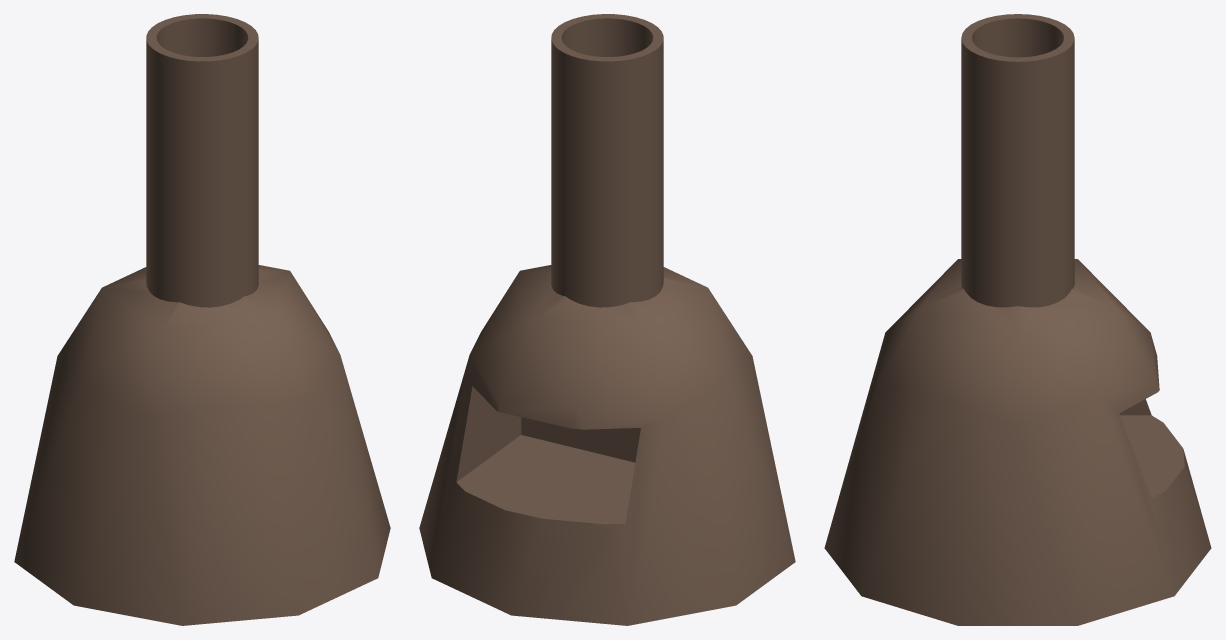
Rendered from furnace.glb.
3 views of the same model, side by side, from view 1: azimuth 30°, elevation 25°; view 2: azimuth 150°, elevation 25°; view 3: azimuth 270°, elevation 25° (orthographic).
Parts seen in each view (by area): view 1: Cylinder; view 2: Cylinder; view 3: Cylinder.
Part boxes in pixels (left/top/right/bottom): Cylinder: left=14, top=14, right=390, bottom=625; Cylinder: left=419, top=14, right=795, bottom=625; Cylinder: left=824, top=14, right=1211, bottom=625.
Bounding box in the file's own units: 1.9 × 2.91 × 2.
